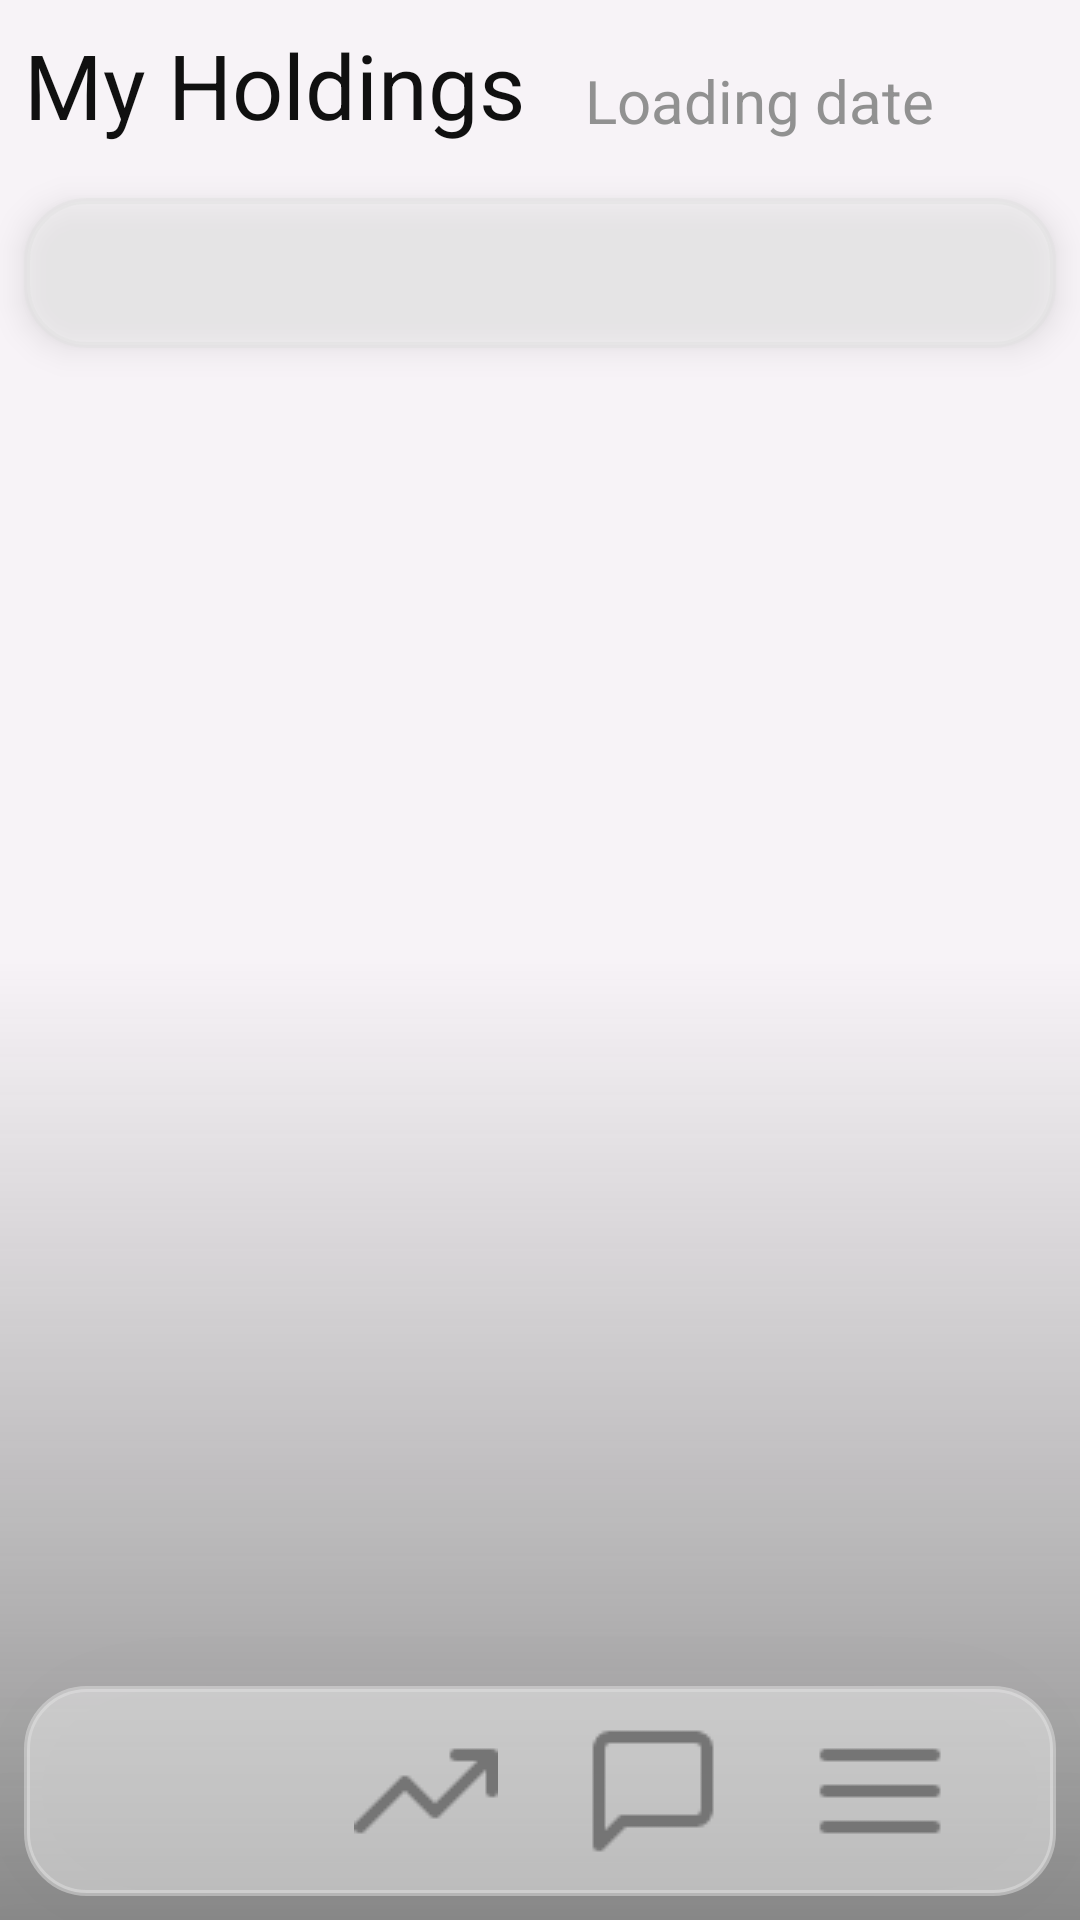

Locate icon controls on the screen. Image size 1080*1920, boxes as (x1, y1, x2, y2).
chat: (592, 1731, 714, 1852)
menu: (819, 1748, 941, 1834)
